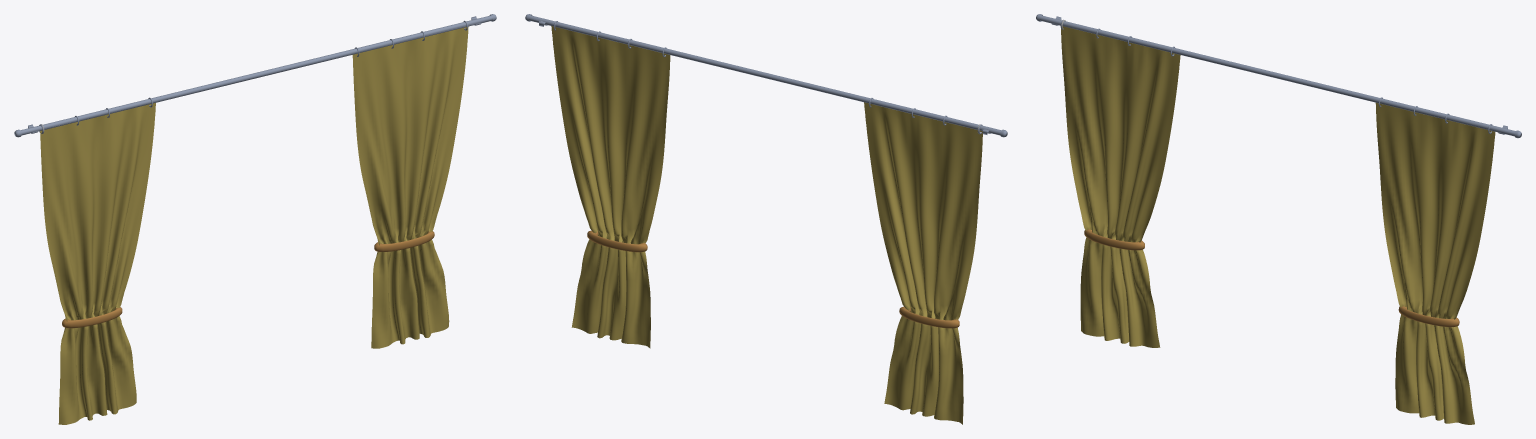
Rendered from curtain final.fbx.
3 renders of one model, left to right at view 1: azimuth 30°, elevation 25°; view 2: azimuth 150°, elevation 25°; view 3: azimuth 330°, elevation 25°, orthographic.
Parts seen in each view (by area): view 1: polySurface1, polySurface2, Curtain rod, pTorus5, pTorus2; view 2: polySurface2, polySurface1, Curtain rod, pTorus2, pTorus5; view 3: polySurface2, polySurface1, Curtain rod, pTorus2, pTorus5.
Boxes of the visible parts, x1,y1,x2,y2 form: polySurface1: [352, 26, 468, 348]; polySurface2: [40, 103, 155, 424]; Curtain rod: [14, 14, 496, 137]; pTorus5: [62, 307, 122, 328]; pTorus2: [374, 231, 434, 251]; polySurface2: [864, 102, 982, 424]; polySurface1: [551, 26, 670, 348]; Curtain rod: [525, 14, 1007, 137]; pTorus2: [587, 230, 647, 252]; pTorus5: [899, 306, 959, 328]; polySurface2: [1061, 26, 1180, 347]; polySurface1: [1375, 102, 1495, 424]; Curtain rod: [1036, 14, 1521, 138]; pTorus2: [1398, 306, 1459, 327]; pTorus5: [1084, 229, 1144, 250].
Bounding box in the file's own units: 57.59 × 35 × 2.14.
